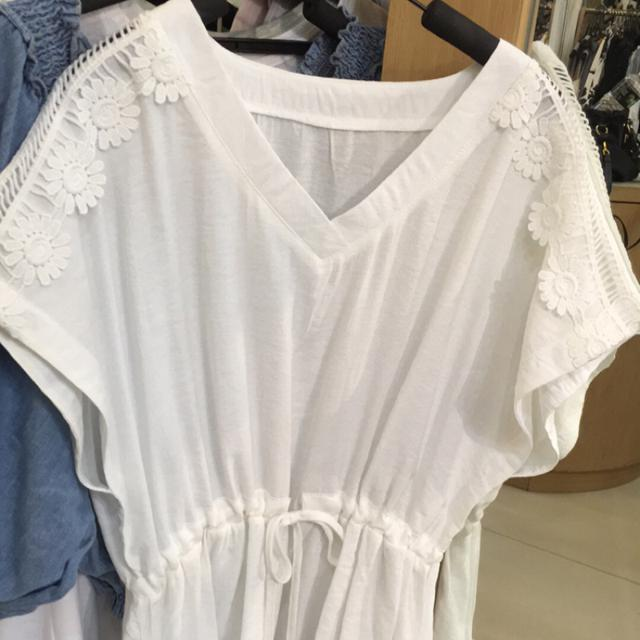Tops: (1, 1, 638, 639)
